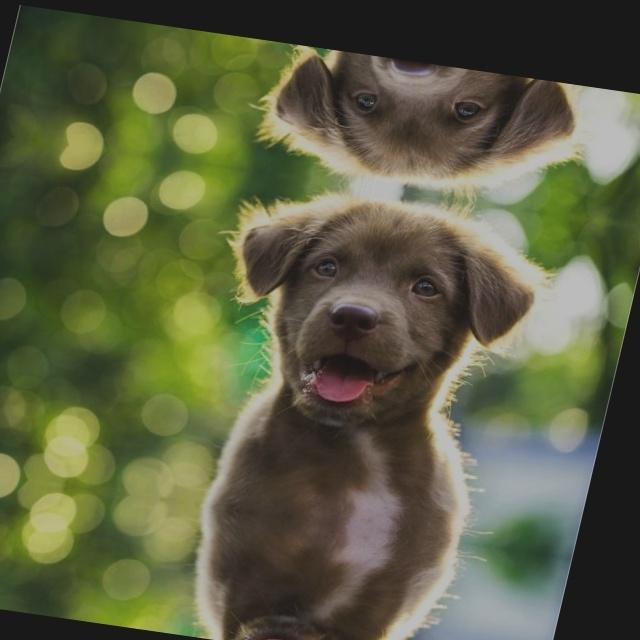dog: (193, 178, 571, 444), (248, 42, 602, 209), (138, 604, 471, 640)
